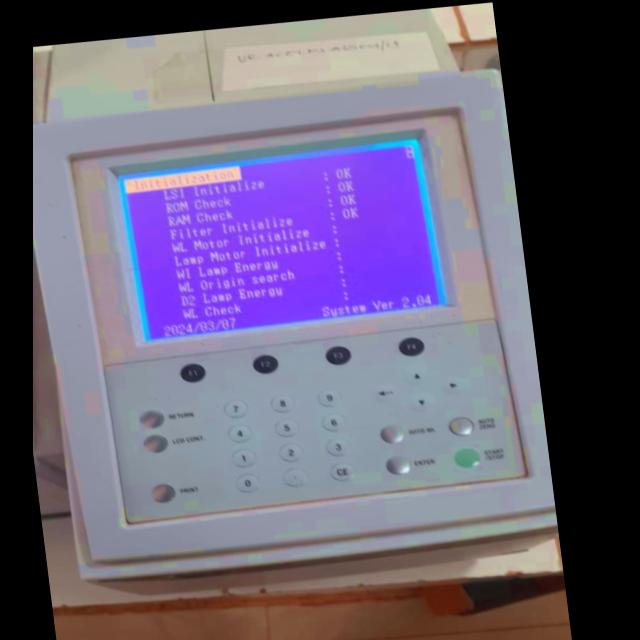Spectrophotometer: (33, 96, 558, 580)
